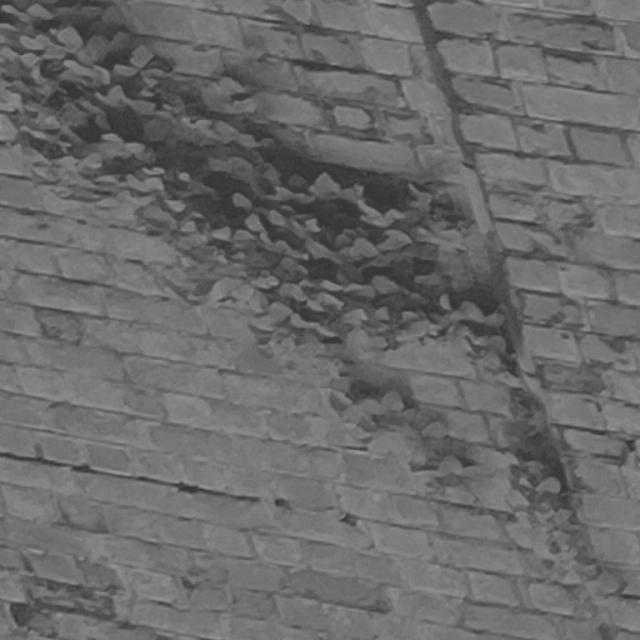crack: (0, 452, 292, 508)
